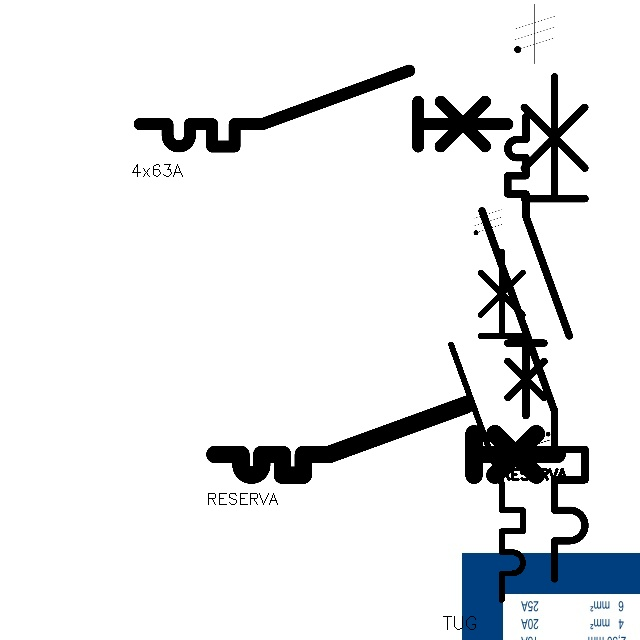interruptor_termomagnetico: (469, 63, 598, 591), (130, 61, 517, 156), (442, 242, 532, 609), (206, 396, 565, 484), (500, 109, 577, 423)
